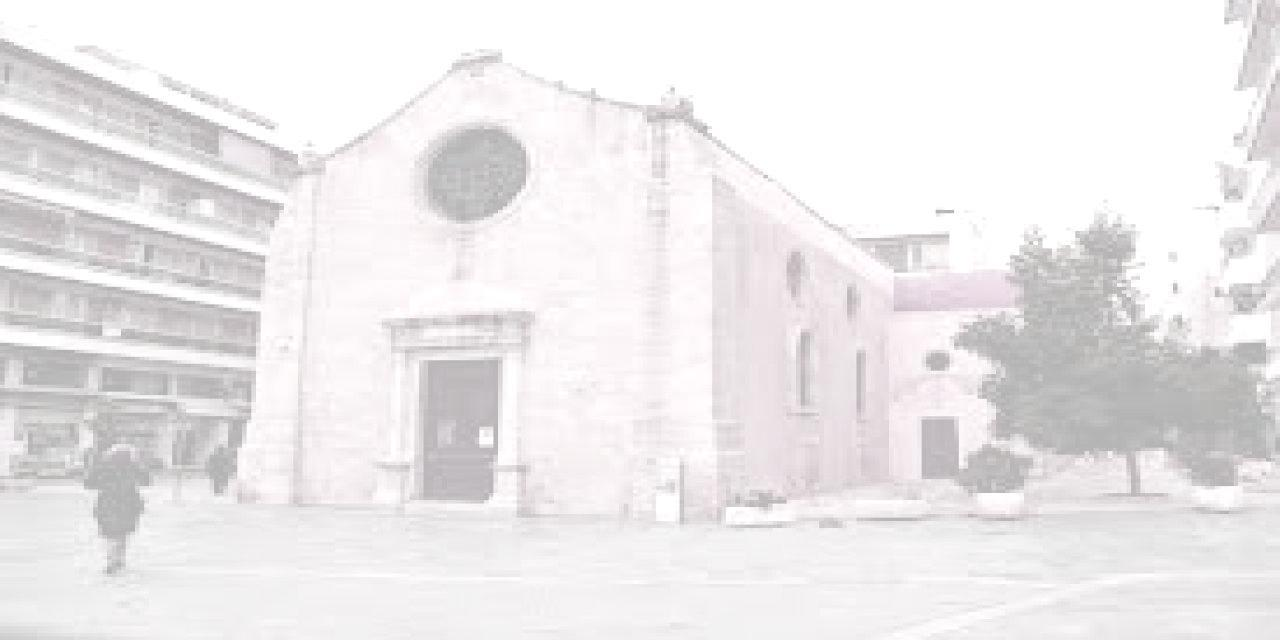Agia Aikaterini: (242, 47, 1019, 504)
